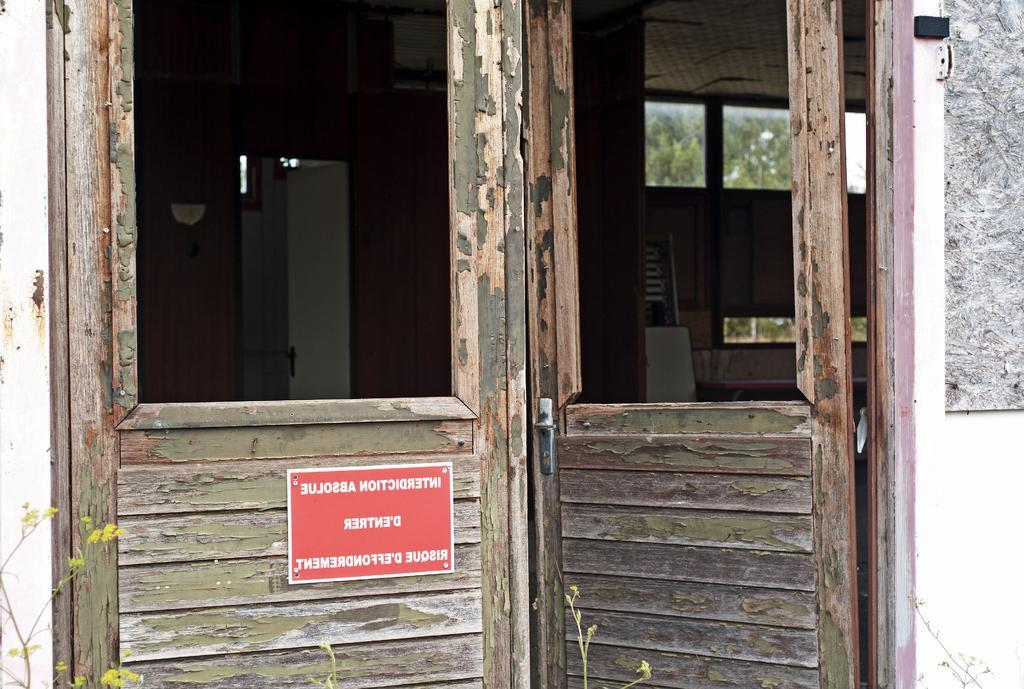door: (110, 8, 492, 689), (542, 0, 840, 689)
handle: (534, 418, 556, 439)
